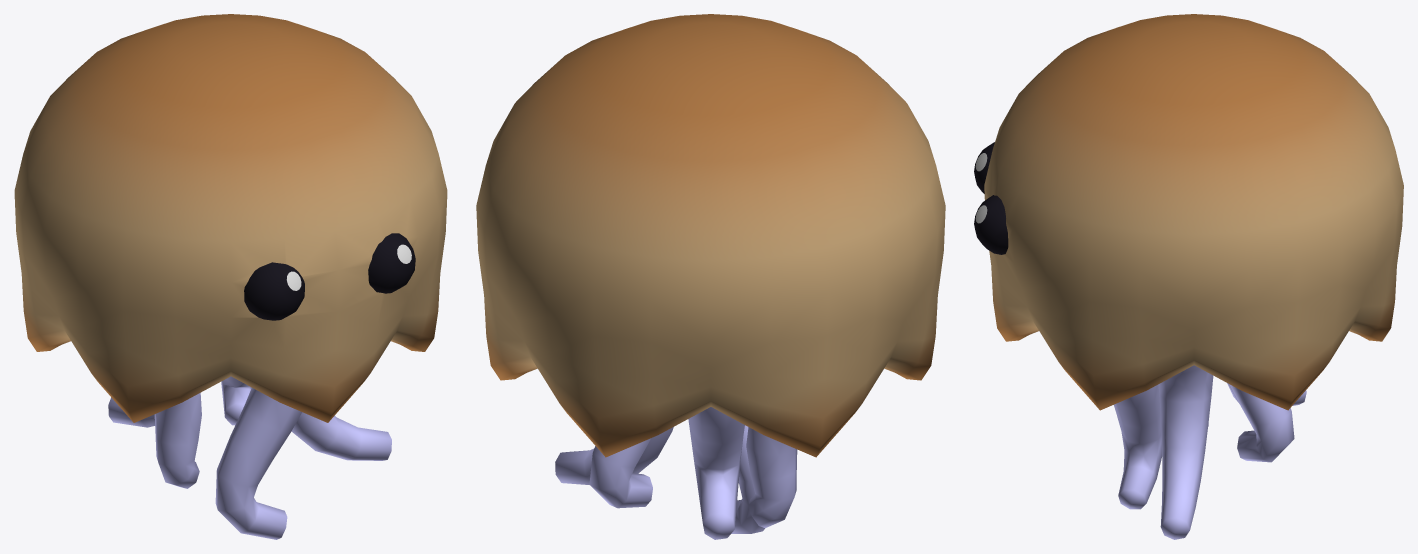
Rendered from Ghostly_Fish_Cooked.glb.
The picture shows the model from 3 angles, left to right: view 1: azimuth 30°, elevation 25°; view 2: azimuth 150°, elevation 25°; view 3: azimuth 270°, elevation 25°; orthographic projection. The views are drawn at different scales.
Visible parts, largest first — view 1: Ghostly_Fish_Cooked; view 2: Ghostly_Fish_Cooked; view 3: Ghostly_Fish_Cooked.
Boxes of the visible parts, left/top/right/bottom form: Ghostly_Fish_Cooked: left=14, top=14, right=447, bottom=539; Ghostly_Fish_Cooked: left=476, top=14, right=945, bottom=539; Ghostly_Fish_Cooked: left=974, top=14, right=1403, bottom=539.
Size of the model in its own units: 0.74 by 0.8986 by 0.758.
